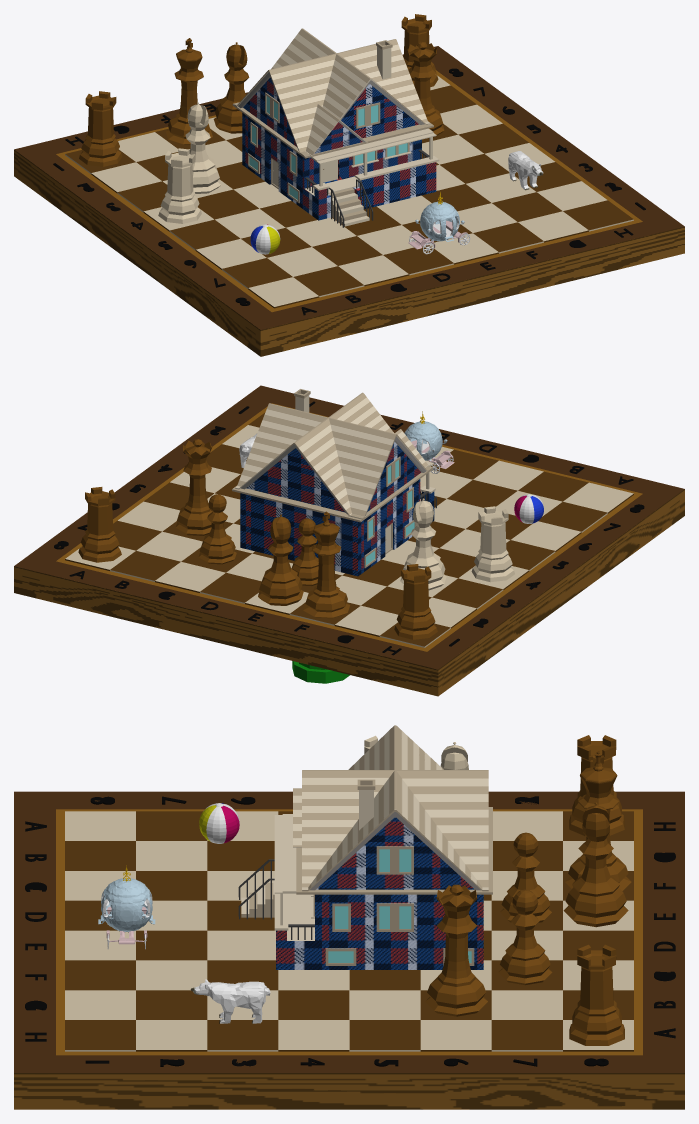
The picture shows the model from 3 angles, top to bottom: view 1: azimuth 30°, elevation 25°; view 2: azimuth 150°, elevation 25°; view 3: azimuth 270°, elevation 25°; orthographic projection. The views are drawn at different scales.
Parts seen in each view (by area): view 1: Cube.002, Cube.171, VEHICLES_FANTASY_CARRIAGE, ANIMAL_OSO_POLAR, OBJRANDOM_BEACHBALL; view 2: Cube.002, Cube.171, VEHICLES_FANTASY_CARRIAGE, UNDERGROUND_PIPES, OBJRANDOM_BEACHBALL; view 3: Cube.002, Cube.171, VEHICLES_FANTASY_CARRIAGE, ANIMAL_OSO_POLAR, OBJRANDOM_BEACHBALL.
Boxes of the visible parts, bbox=[...] form: Cube.002: bbox=[14, 14, 684, 356]; Cube.171: bbox=[232, 28, 439, 227]; VEHICLES_FANTASY_CARRIAGE: bbox=[408, 192, 470, 254]; ANIMAL_OSO_POLAR: bbox=[508, 151, 543, 190]; OBJRANDOM_BEACHBALL: bbox=[250, 224, 280, 254]; Cube.002: bbox=[14, 385, 684, 696]; Cube.171: bbox=[232, 389, 436, 576]; VEHICLES_FANTASY_CARRIAGE: bbox=[404, 411, 454, 473]; UNDERGROUND_PIPES: bbox=[292, 661, 349, 683]; OBJRANDOM_BEACHBALL: bbox=[514, 494, 543, 523]; Cube.002: bbox=[14, 735, 684, 1109]; Cube.171: bbox=[238, 725, 492, 969]; VEHICLES_FANTASY_CARRIAGE: bbox=[98, 865, 155, 949]; ANIMAL_OSO_POLAR: bbox=[190, 979, 270, 1023]; OBJRANDOM_BEACHBALL: bbox=[199, 803, 239, 843].
Bounding box in the file's own units: 3981 × 2068 × 4012.
29 materials, 3 textured.
